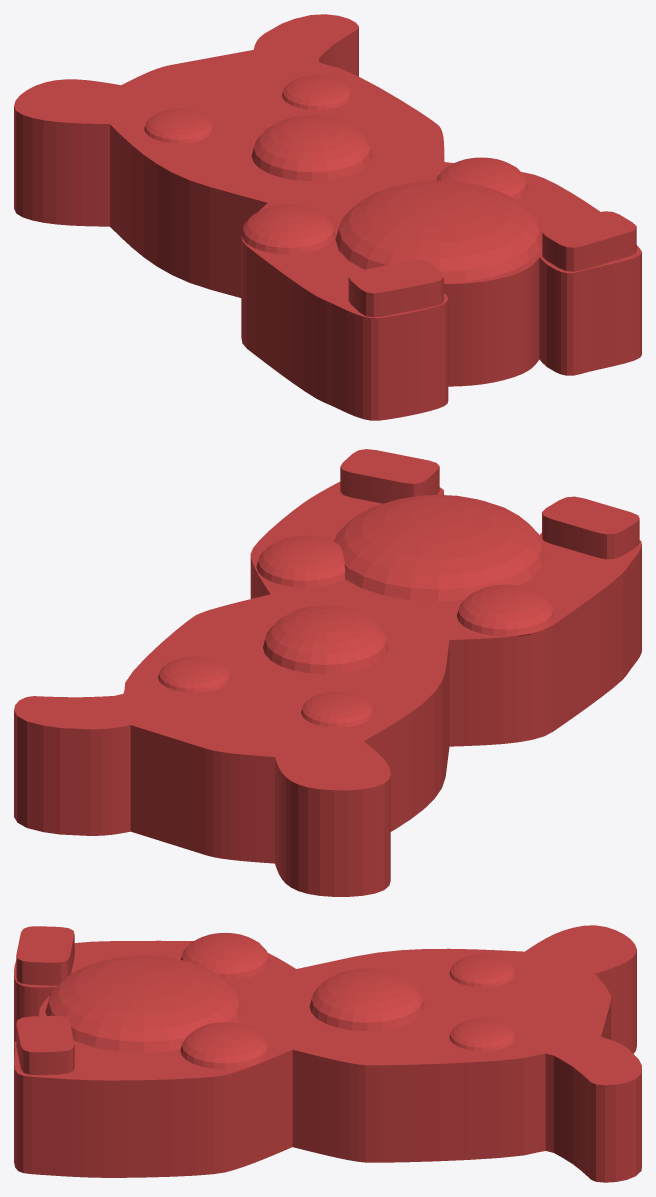
File: 25eaf606-cac0-4107-8b01-5f8f0023b543.glb
3 views of the same model, one above another, from view 1: azimuth 30°, elevation 25°; view 2: azimuth 150°, elevation 25°; view 3: azimuth 270°, elevation 25° (orthographic). The views are drawn at different scales.
Visible parts, largest first — view 1: Line002; view 2: Line002; view 3: Line002.
Boxes of the visible parts, box(x1,y1,x2,y2) form: Line002: box(14, 14, 641, 420); Line002: box(14, 449, 641, 896); Line002: box(14, 925, 641, 1182).
Size of the model in its own units: 1075610 by 422081 by 1784358.
